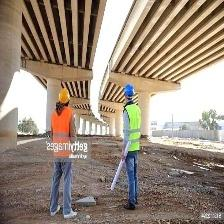Person: (50, 85, 77, 220), (120, 78, 143, 212)
helmet: (57, 86, 72, 105), (122, 80, 136, 99)
vest: (52, 108, 74, 168), (121, 102, 143, 154)
